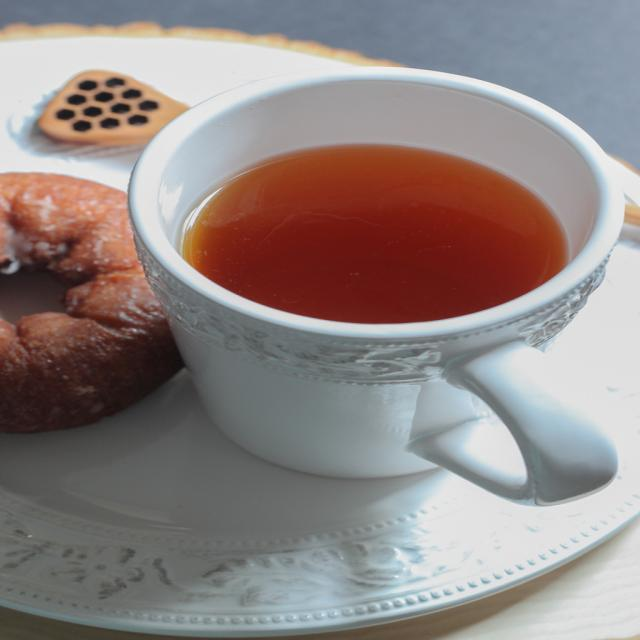Tea: (180, 142, 568, 320)
